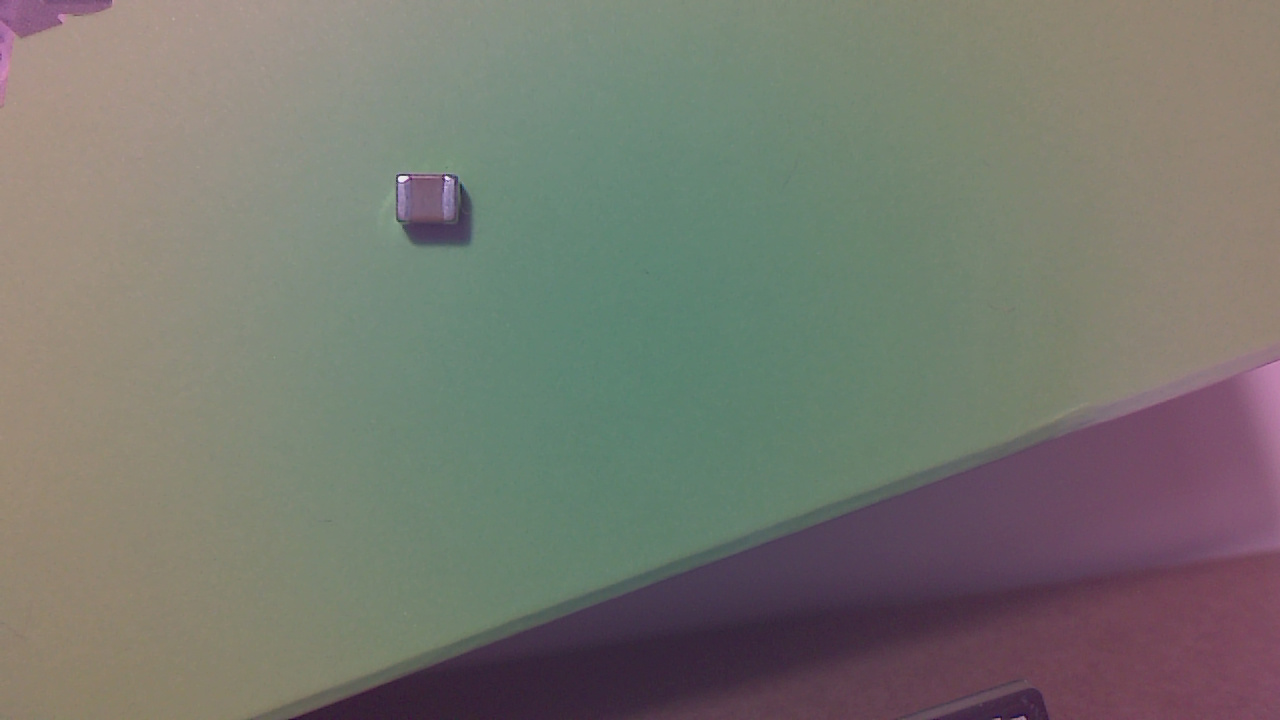Condensator: (398, 177, 475, 236)
